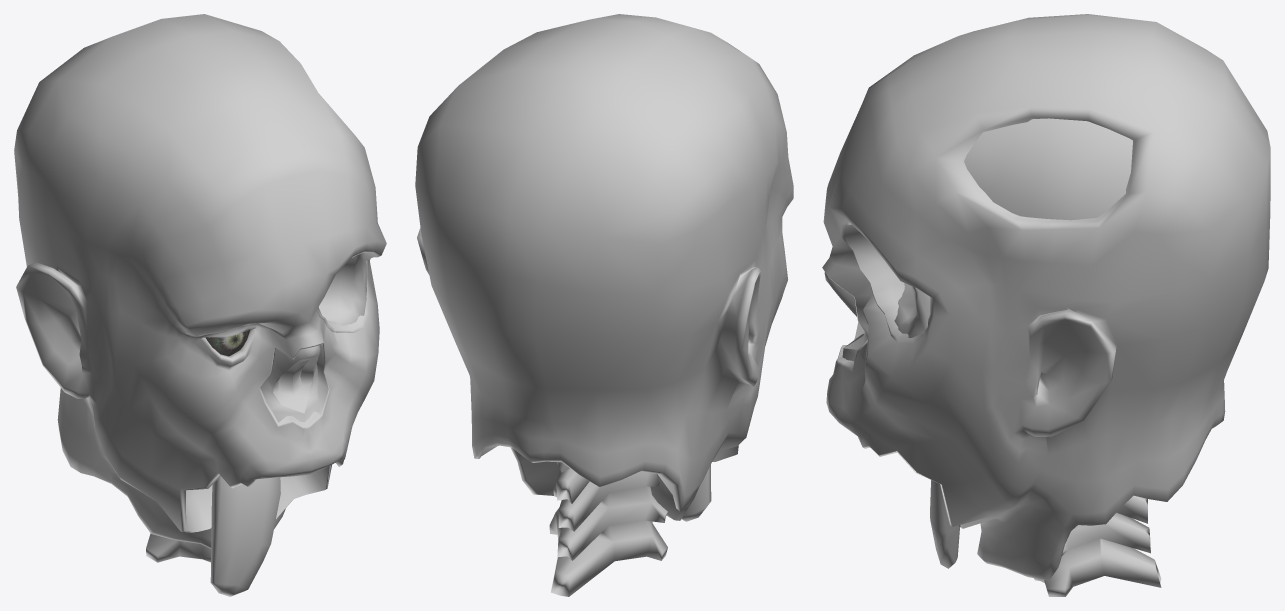
File: Head_04_01.fbx
The picture shows the model from 3 angles, left to right: view 1: azimuth 30°, elevation 25°; view 2: azimuth 150°, elevation 25°; view 3: azimuth 270°, elevation 25°; orthographic projection. The views are drawn at different scales.
Parts seen in each view (by area): view 1: Head_04_01, Tongue; view 2: Head_04_01, Tongue; view 3: Head_04_01, Tongue.
Boxes of the visible parts, box(x1,y1,x2,y2) form: Head_04_01: box(14, 14, 386, 562); Tongue: box(210, 476, 280, 596); Head_04_01: box(415, 14, 793, 596); Tongue: box(681, 464, 711, 521); Head_04_01: box(822, 14, 1270, 596); Tongue: box(930, 480, 959, 568).
Bounding box in the file's own units: 17.79 × 27.16 × 19.98.
